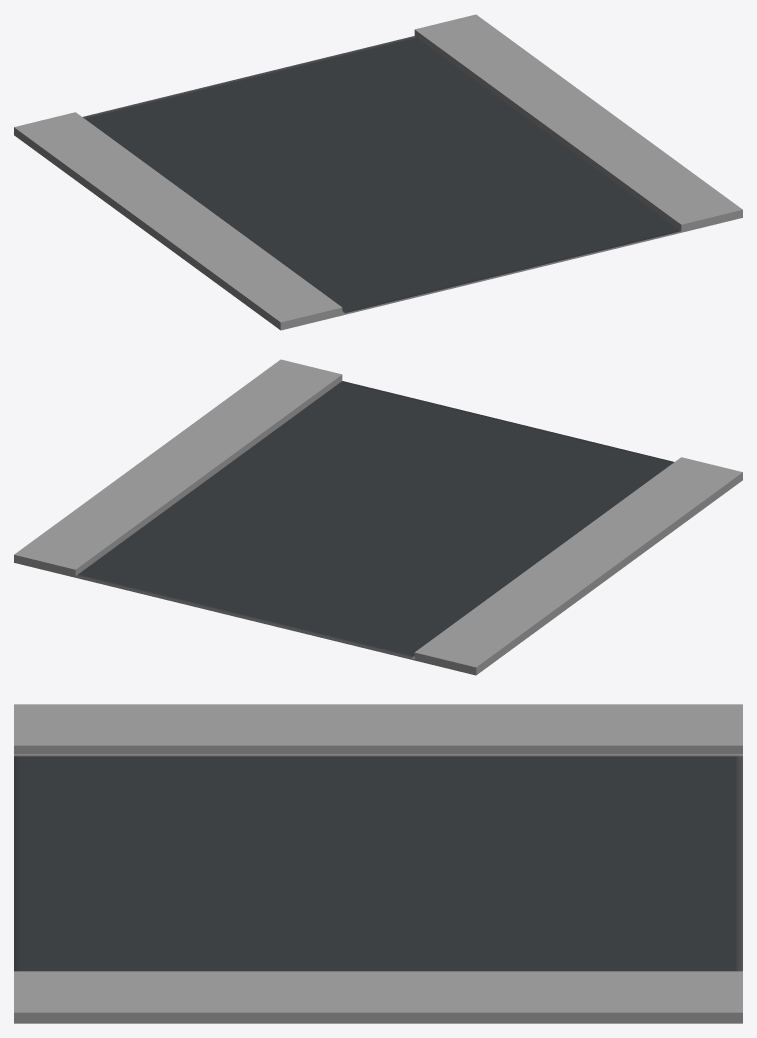
The model's file is Road_Straight_Clear.fbx.
3 views of the same model, one above another, from view 1: azimuth 30°, elevation 25°; view 2: azimuth 150°, elevation 25°; view 3: azimuth 270°, elevation 25° (orthographic). The views are drawn at different scales.
Visible parts, largest first — view 1: Road_Straight_Clear; view 2: Road_Straight_Clear; view 3: Road_Straight_Clear.
Part boxes in pixels (left/top/right/bottom): Road_Straight_Clear: left=14, top=14, right=742, bottom=330; Road_Straight_Clear: left=14, top=359, right=742, bottom=675; Road_Straight_Clear: left=14, top=704, right=742, bottom=1023.
Size of the model in its own units: 600 by 10 by 600.
